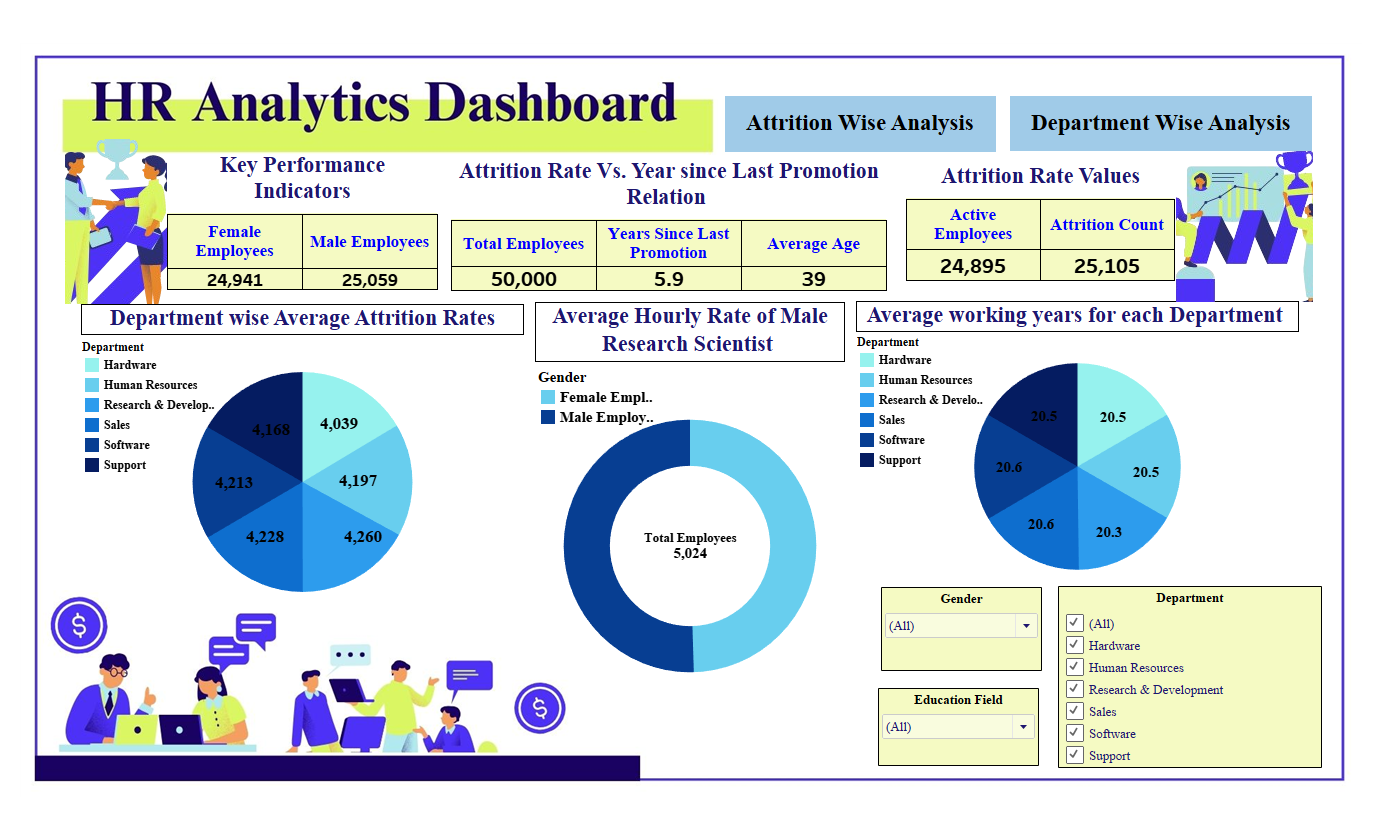

Layout of this report page (visuals, bound fields, positions):
{"tool":"tableau","page":{"name":"D1","canvas":[1366,850],"ordinal":0},"visuals":[{"type":"image","param":"Image/1.jpg","box":[8,8,1350,32]},{"type":"image","param":"Image/HR.jpg","box":[8,40,1350,802]},{"type":"dashboard-object","box":[717,117,271,56]},{"type":"dashboard-object","box":[1002,117,302,55]},{"type":"image","param":"Image/6-removebg-preview.png","box":[1167.9,145.4,136.6,177.6]},{"type":"image","param":"Image/5-removebg-preview.png","box":[57.2,156.8,101.6,168.1]},{"type":"worksheet","title":"KPI's","mark":"Automatic","cols":["Gender"],"box":[159,169,271,142]},{"type":"worksheet","title":"KPIS","mark":"Automatic","box":[443,175,436,137]},{"type":"worksheet","title":"Attritions","mark":"Automatic","cols":["Attrition"],"box":[898,180,269,122]},{"type":"worksheet","title":"KPI 4","mark":"Pie","box":[848,322,443,297]},{"type":"worksheet","title":"KPI 2","mark":"Pie","rows":["Calculation_503558799221460993","Calculation_503558799221460993"],"box":[526.8,323,309.9,425]},{"type":"worksheet","title":"KPI 1","mark":"Pie","box":[73.4,324.9,443.1,322.1]},{"type":"legend","title":"KPI 4","param":"[federated.0opds991c7tnah18v86yy0nvav68].[none:Department:nk]","box":[849,356,135,151]},{"type":"legend","title":"KPI 1","param":"[federated.0opds991c7tnah18v86yy0nvav68].[none:Department:nk]","box":[74.3,360.8,143.4,143.6]},{"type":"legend","title":"KPI 2","param":"[federated.0opds991c7tnah18v86yy0nvav68].[none:Gender:nk]","box":[530.2,390.1,125.5,68]},{"type":"filter","title":"KPIS","param":"[federated.0opds991c7tnah18v86yy0nvav68].[none:Department:nk]","box":[1050,607,264,182]},{"type":"filter","title":"KPIS","param":"[federated.0opds991c7tnah18v86yy0nvav68].[none:Gender:nk]","box":[873,608,161,84]},{"type":"filter","title":"KPIS","param":"[federated.0opds991c7tnah18v86yy0nvav68].[none:EducationField:nk]","box":[870,709,161,78]}]}

Visuals, with their boxes on the page's 1366x850 design canvas (x1, y1, x2, y2). These are canvas units, not pixel positions in the 1375x819 screenshot, which may show the page scaled, cropped or inside an application window:
image: (x1=8, y1=8, x2=1358, y2=40)
image: (x1=8, y1=40, x2=1358, y2=842)
dashboard-object: (x1=717, y1=117, x2=988, y2=173)
dashboard-object: (x1=1002, y1=117, x2=1304, y2=172)
image: (x1=1168, y1=145, x2=1304, y2=323)
image: (x1=57, y1=157, x2=159, y2=325)
"KPI's" worksheet: (x1=159, y1=169, x2=430, y2=311)
"KPIS" worksheet: (x1=443, y1=175, x2=879, y2=312)
"Attritions" worksheet: (x1=898, y1=180, x2=1167, y2=302)
"KPI 4" worksheet (Pie marks): (x1=848, y1=322, x2=1291, y2=619)
"KPI 2" worksheet (Pie marks): (x1=527, y1=323, x2=837, y2=748)
"KPI 1" worksheet (Pie marks): (x1=73, y1=325, x2=516, y2=647)
"KPI 4" legend: (x1=849, y1=356, x2=984, y2=507)
"KPI 1" legend: (x1=74, y1=361, x2=218, y2=504)
"KPI 2" legend: (x1=530, y1=390, x2=656, y2=458)
"KPIS" filter: (x1=1050, y1=607, x2=1314, y2=789)
"KPIS" filter: (x1=873, y1=608, x2=1034, y2=692)
"KPIS" filter: (x1=870, y1=709, x2=1031, y2=787)
